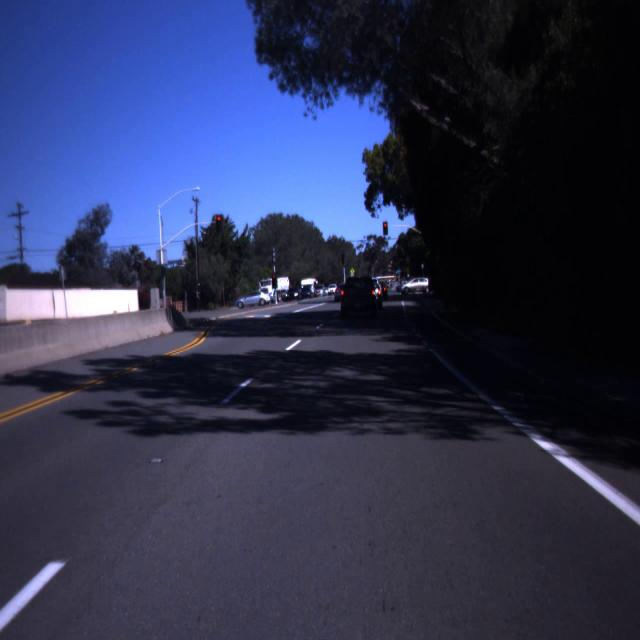stop: (218, 217, 220, 220), (384, 224, 386, 227)
stop left: (273, 275, 275, 277)
stop left traffic light: (271, 274, 277, 286)
stop traffic light: (382, 222, 388, 235), (216, 216, 222, 228)
